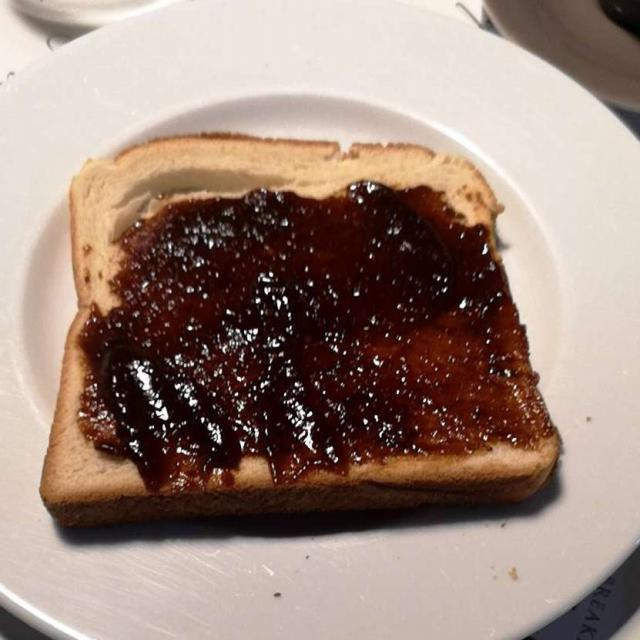bread-toast: (58, 135, 555, 525)
jam: (94, 189, 551, 496)
